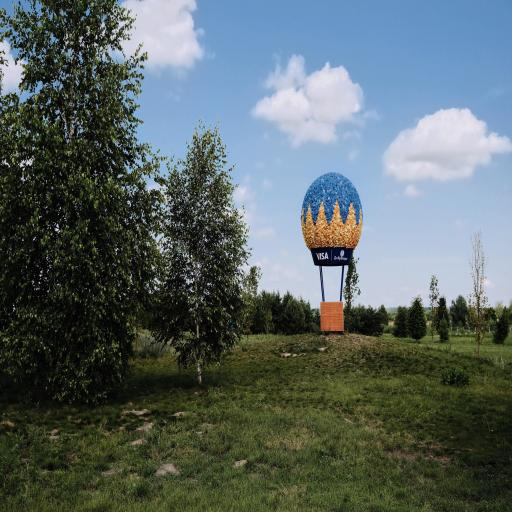hot air ballon: (300, 171, 363, 336)
